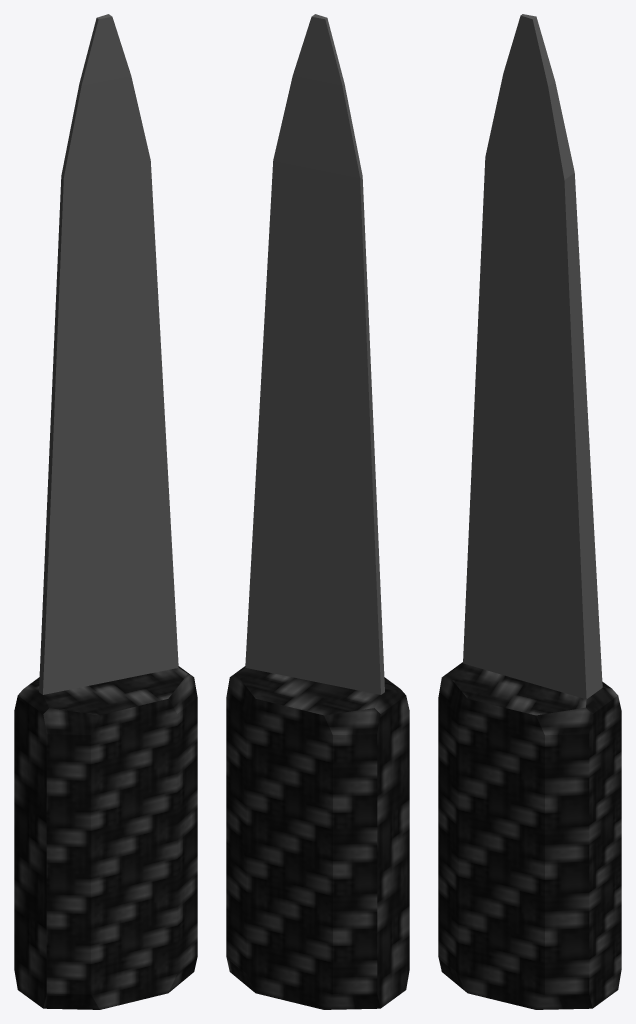
The model's file is knife1.glb.
3 views of the same model, side by side, from view 1: azimuth 30°, elevation 25°; view 2: azimuth 150°, elevation 25°; view 3: azimuth 330°, elevation 25° (orthographic).
Visible parts, largest first — view 1: Knife; view 2: Knife; view 3: Knife.
Part boxes in pixels (x1=…): Knife: x1=14, y1=14, x2=197, y2=1009; Knife: x1=226, y1=14, x2=409, y2=1009; Knife: x1=438, y1=14, x2=621, y2=1009.
Bounding box in the file's own units: 2 × 12.22 × 1.3.
Materials: 2 (1 with a texture image).
